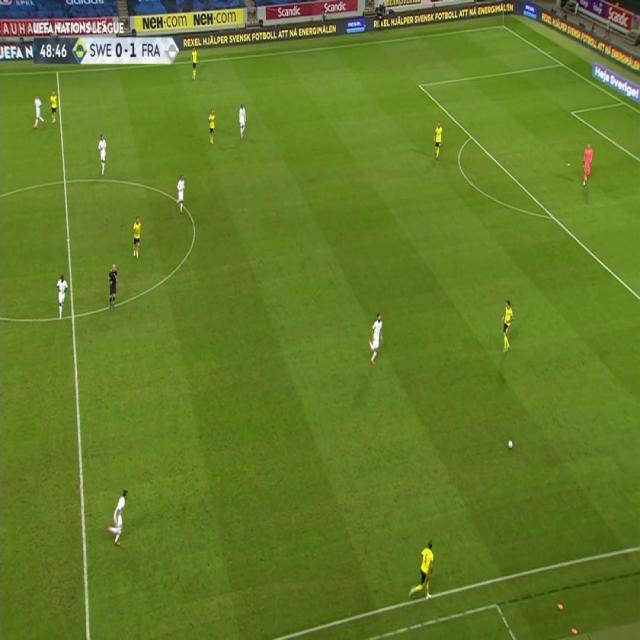ball: (508, 438, 515, 450)
goalkeeper: (580, 142, 595, 188)
player: (408, 539, 437, 603), (105, 488, 130, 548), (367, 311, 386, 368), (500, 299, 516, 354), (54, 272, 69, 321), (131, 213, 143, 259), (432, 118, 444, 161), (96, 133, 108, 176), (175, 174, 187, 215), (32, 94, 45, 129), (48, 90, 60, 124), (207, 106, 217, 145), (238, 102, 248, 140), (190, 44, 199, 80)
referee: (107, 261, 118, 311)
